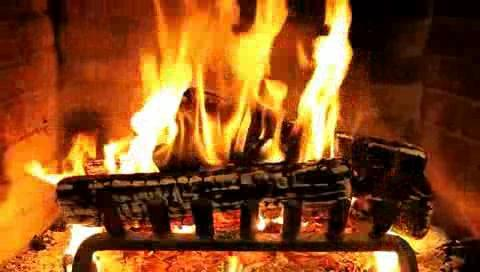fire: (128, 5, 347, 167)
